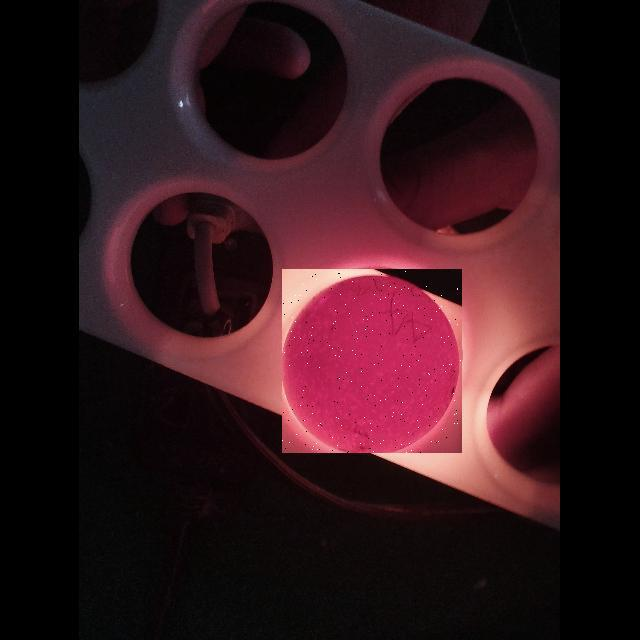Infertile: (282, 269, 462, 453)
